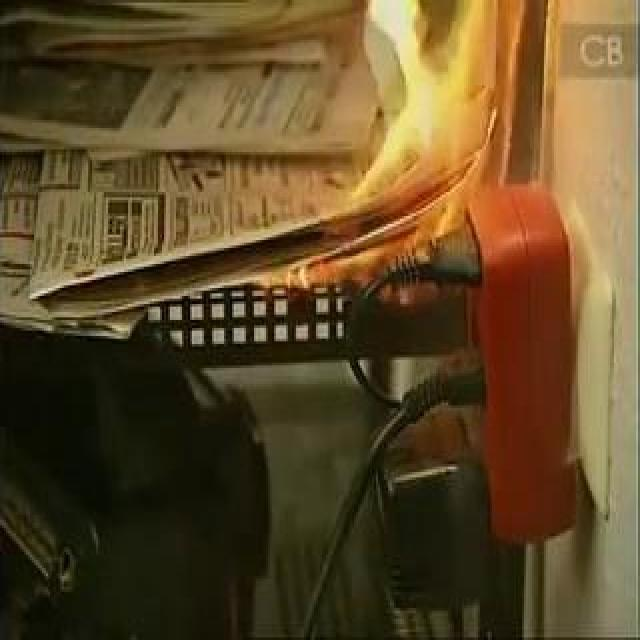Fire: (261, 1, 537, 298)
